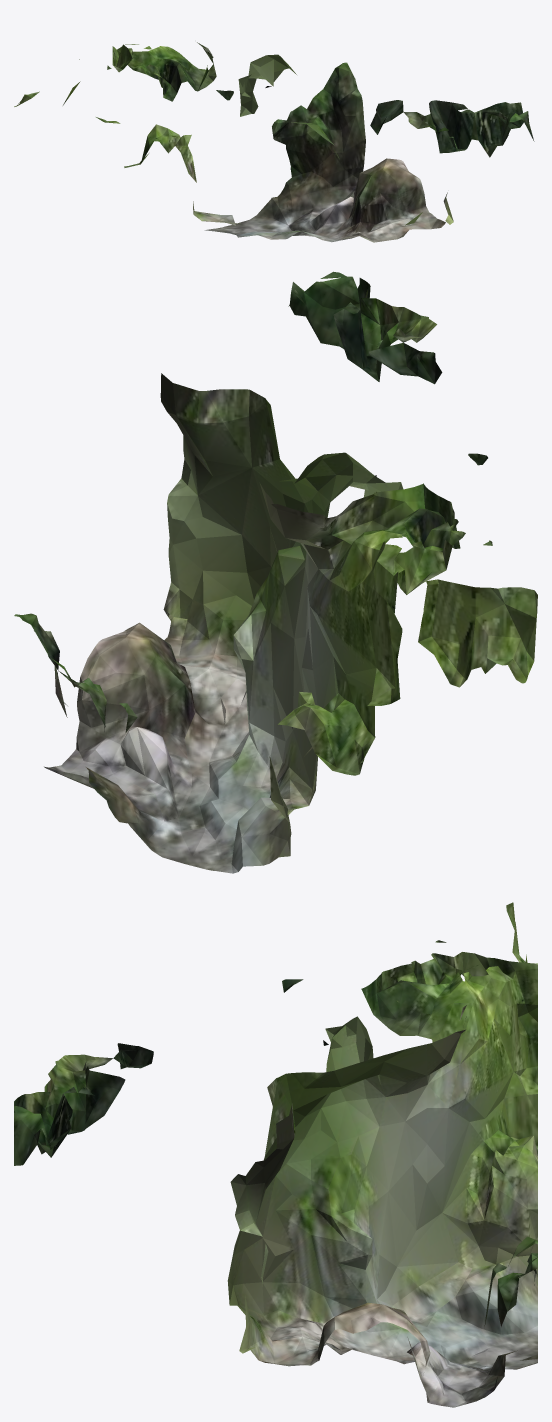
3 renders of one model, top to bottom at view 1: azimuth 30°, elevation 25°; view 2: azimuth 150°, elevation 25°; view 3: azimuth 270°, elevation 25°, orthographic. The views are drawn at different scales.
Size of the model in its own units: 26.11 by 16.73 by 26.11.
3 materials, 3 textured.
